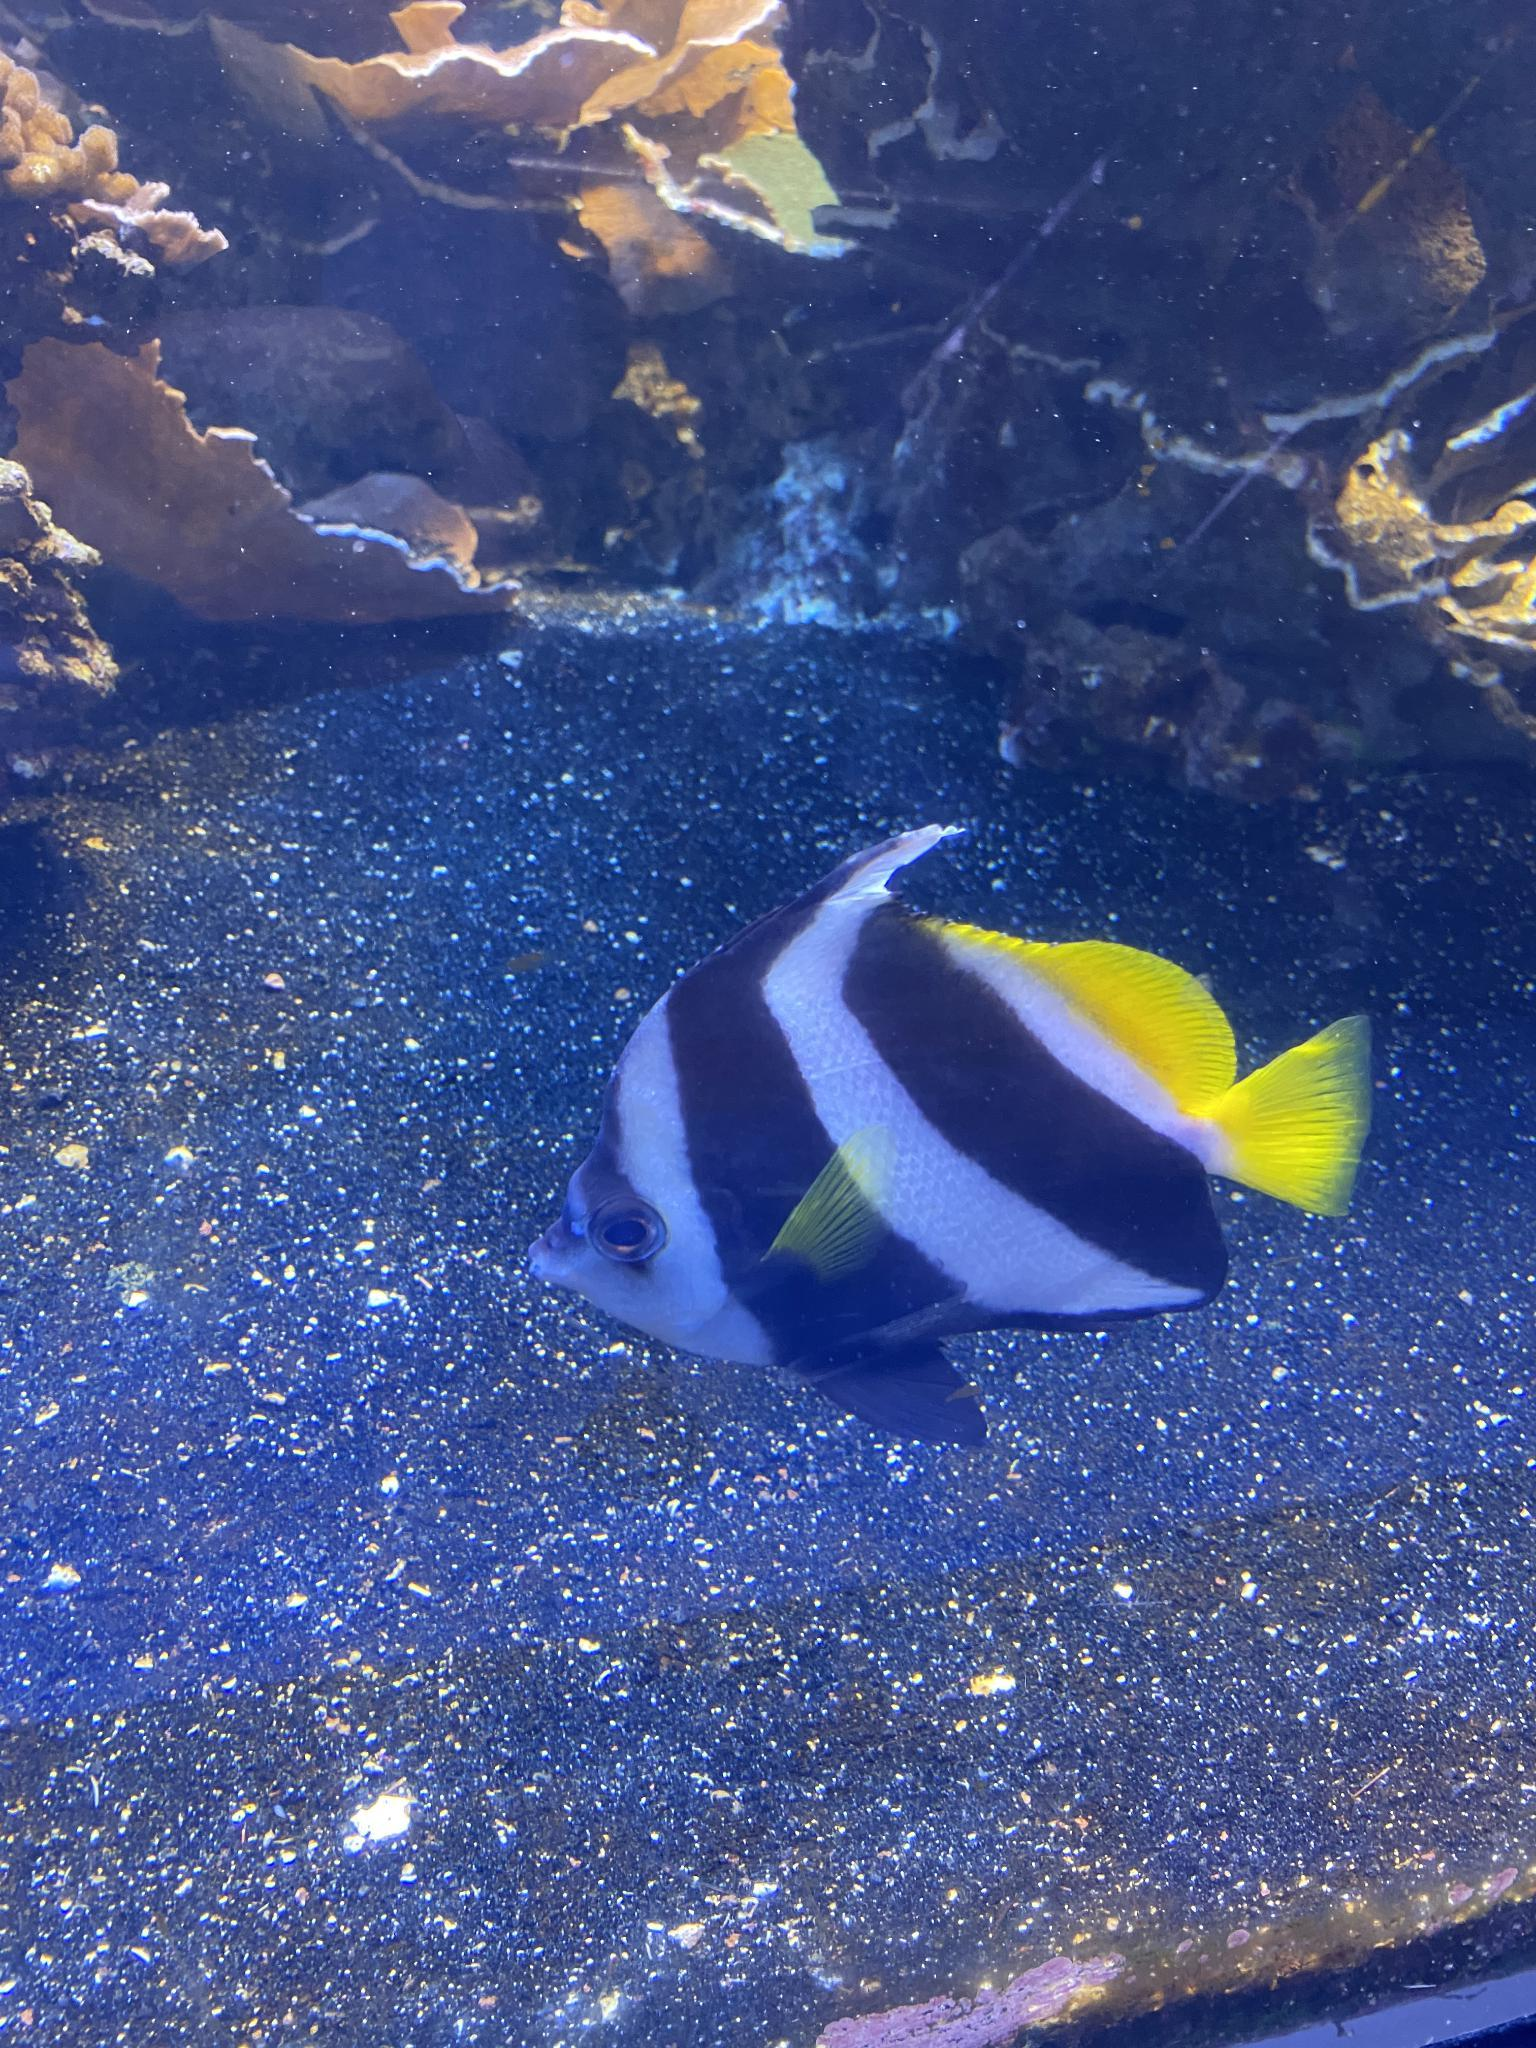fish: (529, 826, 1367, 1442)
